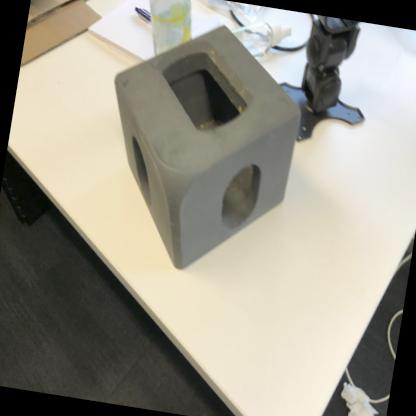CornerCasting: (81, 6, 318, 292)
